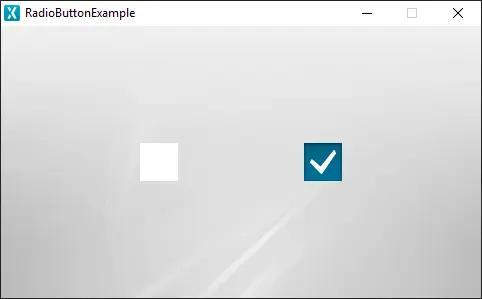checkbox: (141, 144, 180, 182), (305, 144, 343, 182)
icon: (405, 7, 421, 22), (451, 8, 466, 22), (363, 10, 374, 20)
label: (21, 7, 142, 20)
